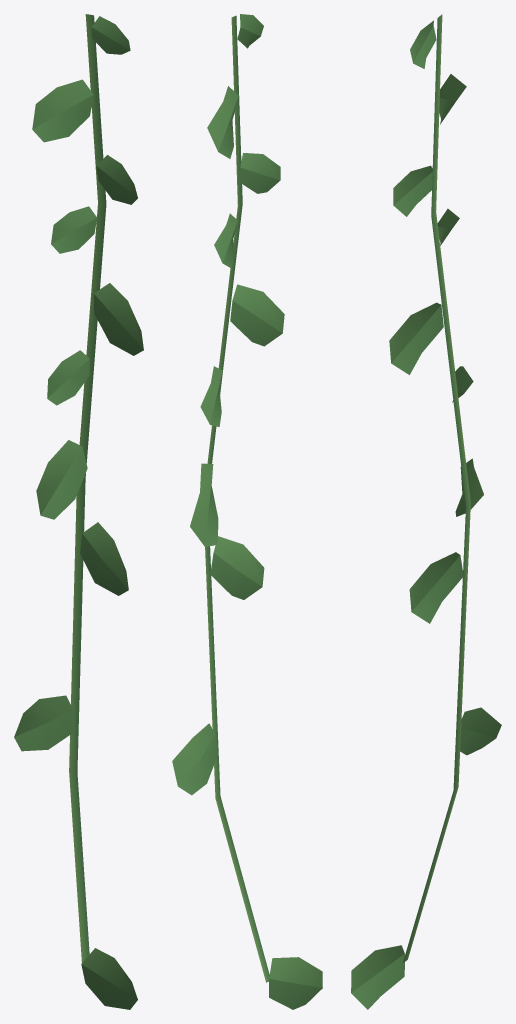
Rendered from hangingIvy3.fbx.
The picture shows the model from 3 angles, left to right: view 1: azimuth 90°, elevation 25°; view 2: azimuth 150°, elevation 25°; view 3: azimuth 330°, elevation 25°; orthographic projection. The views are drawn at different scales.
Parts seen in each view (by area): view 1: hangingIvy2; view 2: hangingIvy2; view 3: hangingIvy2.
Boxes of the visible parts, bbox=[...] form: hangingIvy2: bbox=[14, 14, 143, 1009]; hangingIvy2: bbox=[172, 14, 322, 1009]; hangingIvy2: bbox=[351, 14, 501, 1009].
Size of the model in its own units: 72.93 by 728 by 88.27.
